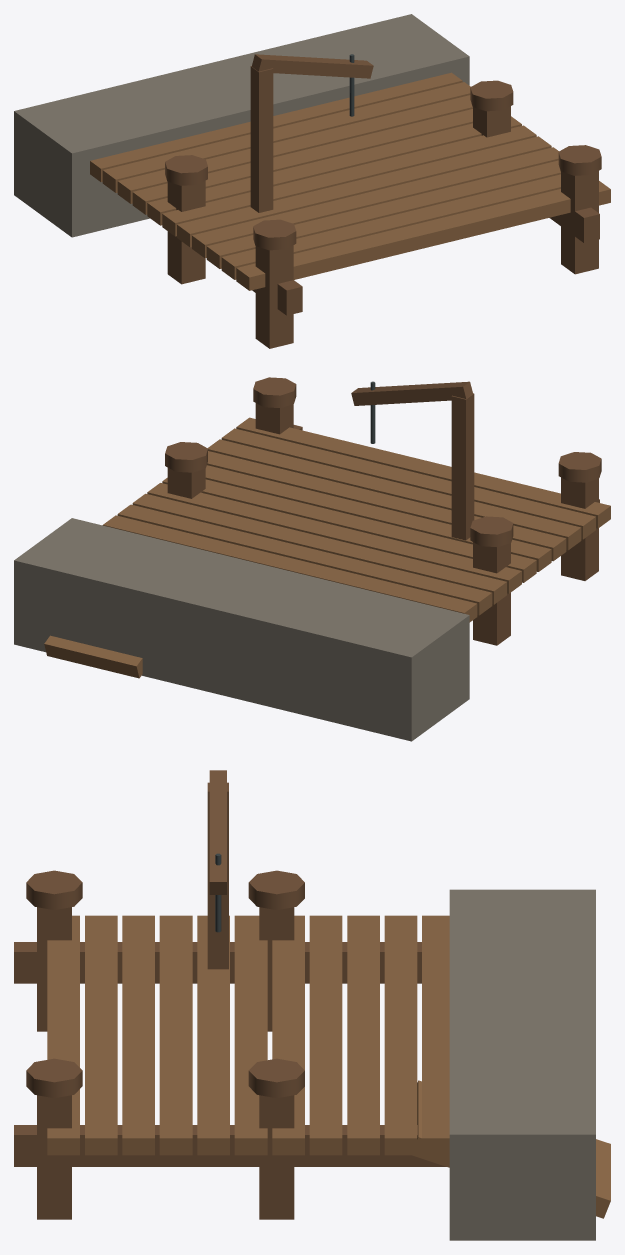
The model's file is river-dock.source.glb.
The picture shows the model from 3 angles, top to bottom: view 1: azimuth 30°, elevation 25°; view 2: azimuth 150°, elevation 25°; view 3: azimuth 270°, elevation 25°; orthographic projection. The views are drawn at different scales.
Visible parts, largest first — view 1: river-dock-shore-wall-mesh, river-dock-deck-plank-2.0700000000000003-mesh, river-dock-deck-plank-0.7900000000000003-mesh, river-dock-deck-plank-1.1100000000000003-mesh, river-dock-deck-plank-0.4700000000000002-mesh, river-dock-deck-plank--0.8099999999999998-mesh, river-dock-deck-plank-1.4300000000000004-mesh, river-dock-deck-plank-1.7500000000000004-mesh, river-dock-deck-plank--1.13-mesh, river-dock-deck-plank--0.4899999999999998-mesh, river-dock-deck-plank--0.16999999999999982-mesh, river-dock-deck-plank-0.1500000000000002-mesh (+12 smaller); view 2: river-dock-shore-wall-mesh, river-dock-deck-plank--0.4899999999999998-mesh, river-dock-deck-plank--0.16999999999999982-mesh, river-dock-deck-plank-1.7500000000000004-mesh, river-dock-deck-plank-1.4300000000000004-mesh, river-dock-deck-plank--0.8099999999999998-mesh, river-dock-deck-plank-0.1500000000000002-mesh, river-dock-deck-plank-2.0700000000000003-mesh, river-dock-deck-plank-1.1100000000000003-mesh, river-dock-deck-plank-0.4700000000000002-mesh, river-dock-deck-plank-0.7900000000000003-mesh, river-dock-derrick-mast-mesh (+10 smaller); view 3: river-dock-shore-wall-mesh, river-dock-deck-plank-1.1100000000000003-mesh, river-dock-deck-plank--0.8099999999999998-mesh, river-dock-deck-plank--0.16999999999999982-mesh, river-dock-deck-plank--0.4899999999999998-mesh, river-dock-deck-plank-1.4300000000000004-mesh, river-dock-deck-plank-1.7500000000000004-mesh, river-dock-deck-plank-0.4700000000000002-mesh, river-dock-deck-plank-0.7900000000000003-mesh, river-dock-deck-plank--1.13-mesh, river-dock-side-beam-1.85-mesh, river-dock-deck-plank-0.1500000000000002-mesh (+13 smaller).
Boxes of the visible parts, <box> form: river-dock-shore-wall-mesh: <box>14,14,469,237</box>; river-dock-deck-plank-2.0700000000000003-mesh: <box>236,181,610,290</box>; river-dock-deck-plank-0.7900000000000003-mesh: <box>177,136,551,247</box>; river-dock-deck-plank-1.1100000000000003-mesh: <box>192,147,558,258</box>; river-dock-deck-plank-0.4700000000000002-mesh: <box>162,125,536,236</box>; river-dock-deck-plank--0.8099999999999998-mesh: <box>102,82,470,192</box>; river-dock-deck-plank-1.4300000000000004-mesh: <box>206,160,560,268</box>; river-dock-deck-plank-1.7500000000000004-mesh: <box>221,174,560,279</box>; river-dock-deck-plank--1.13-mesh: <box>90,72,462,182</box>; river-dock-deck-plank--0.4899999999999998-mesh: <box>117,95,472,203</box>; river-dock-deck-plank--0.16999999999999982-mesh: <box>132,109,472,214</box>; river-dock-deck-plank-0.1500000000000002-mesh: <box>147,116,521,225</box>; river-dock-shore-wall-mesh: <box>14,518,469,741</box>; river-dock-deck-plank--0.4899999999999998-mesh: <box>117,504,492,615</box>; river-dock-deck-plank--0.16999999999999982-mesh: <box>132,493,506,604</box>; river-dock-deck-plank-1.7500000000000004-mesh: <box>221,428,595,539</box>; river-dock-deck-plank-1.4300000000000004-mesh: <box>208,439,581,550</box>; river-dock-deck-plank--0.8099999999999998-mesh: <box>102,515,477,622</box>; river-dock-deck-plank-0.1500000000000002-mesh: <box>147,483,521,593</box>; river-dock-deck-plank-2.0700000000000003-mesh: <box>236,417,610,528</box>; river-dock-deck-plank-1.1100000000000003-mesh: <box>207,451,566,561</box>; river-dock-deck-plank-0.4700000000000002-mesh: <box>162,477,536,582</box>; river-dock-deck-plank-0.7900000000000003-mesh: <box>205,465,551,571</box>; river-dock-derrick-mast-mesh: <box>451,393,474,540</box>; river-dock-shore-wall-mesh: <box>449,889,595,1240</box>; river-dock-deck-plank-1.1100000000000003-mesh: <box>159,915,192,1155</box>; river-dock-deck-plank--0.8099999999999998-mesh: <box>384,915,417,1155</box>; river-dock-deck-plank--0.16999999999999982-mesh: <box>309,915,342,1155</box>; river-dock-deck-plank--0.4899999999999998-mesh: <box>347,915,379,1155</box>; river-dock-deck-plank-1.4300000000000004-mesh: <box>122,915,154,1155</box>; river-dock-deck-plank-1.7500000000000004-mesh: <box>85,915,117,1155</box>; river-dock-deck-plank-0.4700000000000002-mesh: <box>234,915,267,1155</box>; river-dock-deck-plank-0.7900000000000003-mesh: <box>197,915,229,1155</box>; river-dock-deck-plank--1.13-mesh: <box>422,915,449,1155</box>; river-dock-side-beam-1.85-mesh: <box>14,1125,446,1166</box>; river-dock-deck-plank-0.1500000000000002-mesh: <box>272,915,304,1155</box>.
Bounding box in the file's own units: 4.95 × 2.68 × 5.1.
